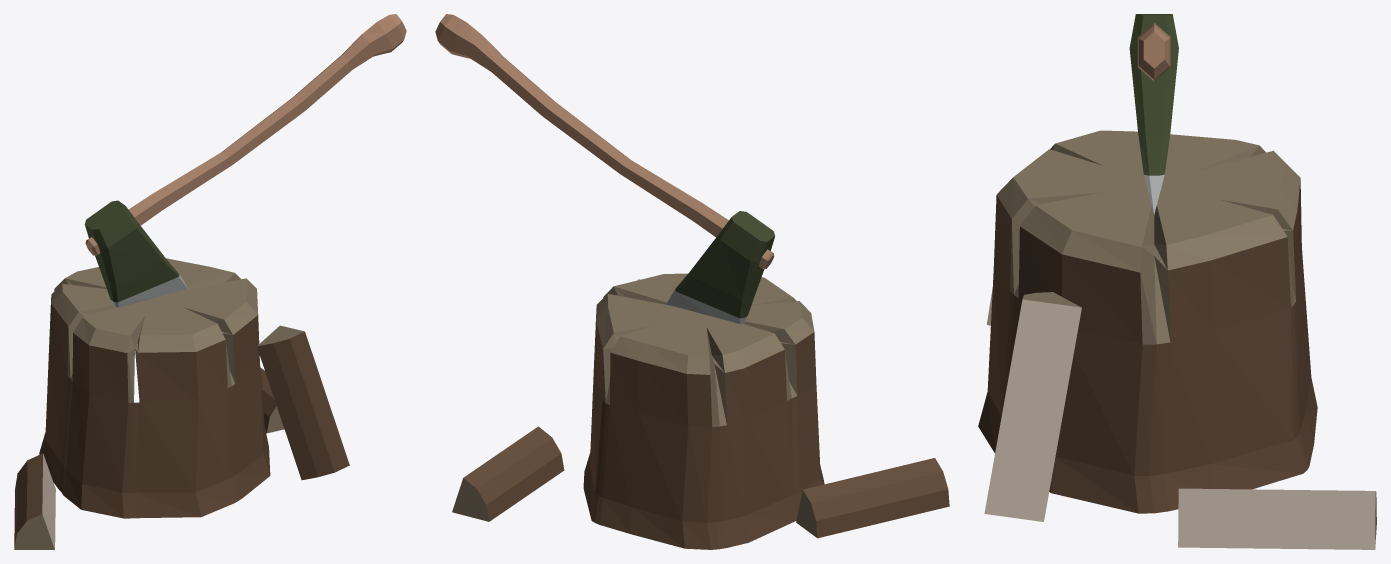
The model's file is splitting-axe-in-a-afd1d5.glb.
The picture shows the model from 3 angles, left to right: view 1: azimuth 30°, elevation 25°; view 2: azimuth 150°, elevation 25°; view 3: azimuth 270°, elevation 25°; orthographic projection. The views are drawn at different scales.
Parts seen in each view (by area): view 1: block, axe-mesh; view 2: block, axe-mesh; view 3: block, axe-mesh.
Boxes of the visible parts, left/top/right/bottom form: block: left=14, top=258, right=349, bottom=549; axe-mesh: left=84, top=14, right=406, bottom=307; block: left=452, top=273, right=949, bottom=549; axe-mesh: left=435, top=14, right=774, bottom=323; block: left=978, top=130, right=1376, bottom=549; axe-mesh: left=1129, top=14, right=1178, bottom=214.
Bounding box in the file's own units: 1.19 × 1.03 × 0.6474.
